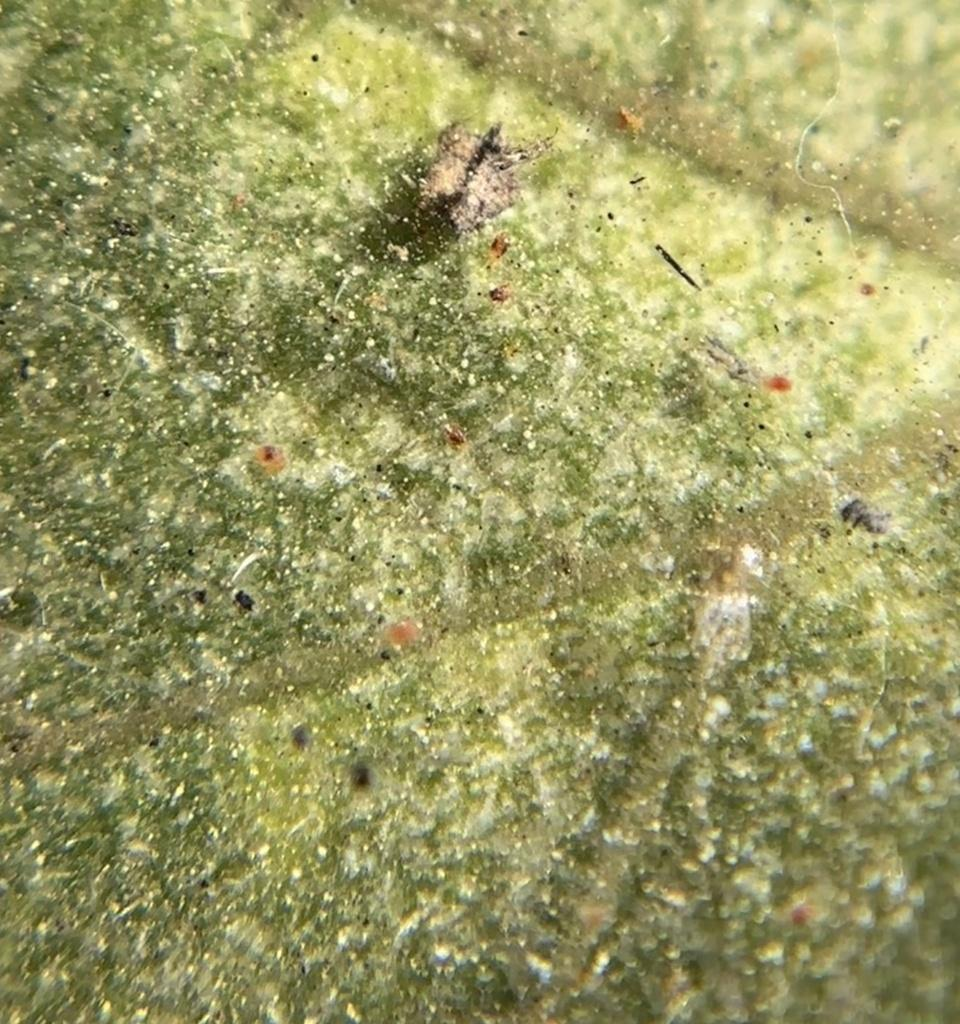tiny_pests: (362, 605, 434, 663), (481, 226, 522, 322), (244, 426, 301, 487), (754, 363, 812, 404)
